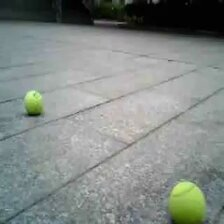tennis: (168, 180, 205, 224), (23, 89, 42, 114)
